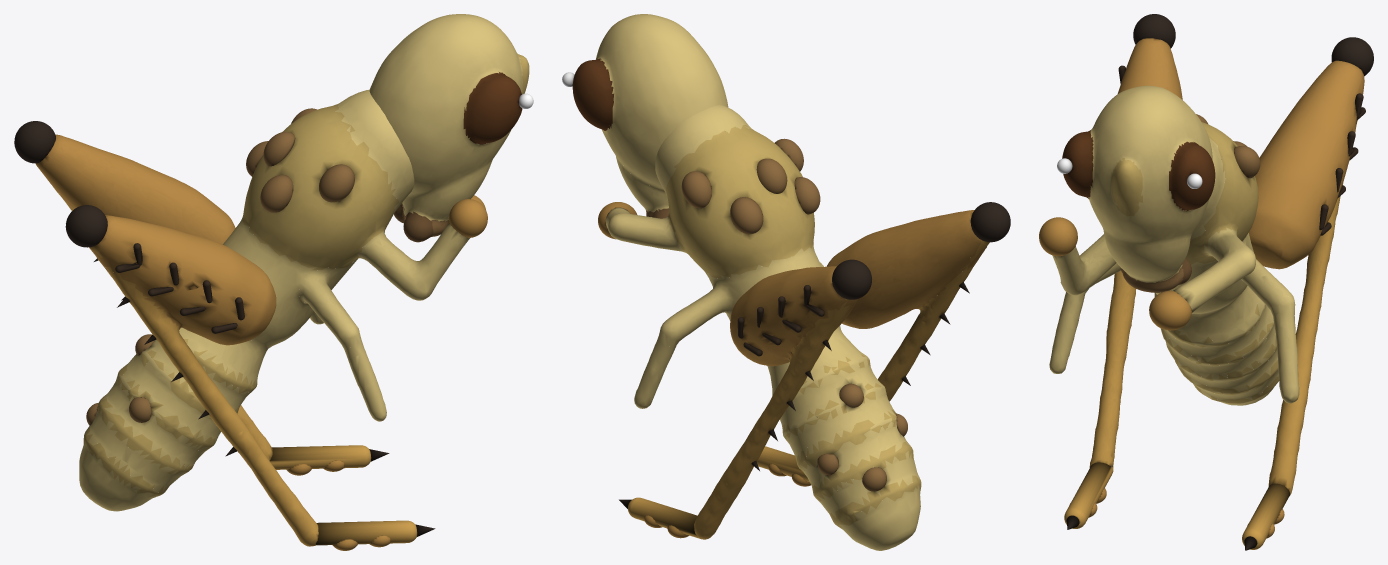
File: kan-jag-smaka.glb
3 renders of one model, left to right at view 1: azimuth 30°, elevation 25°; view 2: azimuth 150°, elevation 25°; view 3: azimuth 270°, elevation 25°, orthographic. The views are drawn at different scales.
Parts seen in each view (by area): view 1: gafanhoto__r0, patas__r0, cabeca__r0, patas__r7, patas__r27, patas__r36, patas__r20, gafanhoto__r5, gafanhoto__r9, gafanhoto__r10, gafanhoto__r11; view 2: gafanhoto__r0, patas__r0, cabeca__r0, patas__r27, patas__r36, patas__r20, gafanhoto__r8, gafanhoto__r7, gafanhoto__r11, patas__r7, gafanhoto__r10; view 3: patas__r0, gafanhoto__r0, cabeca__r0, patas__r7, patas__r27, gafanhoto__r6, gafanhoto__r5, patas__r20, patas__r36, gafanhoto__r7.
Boxes of the visible parts, bbox=[...] form: gafanhoto__r0: bbox=[79, 89, 469, 511]; patas__r0: bbox=[35, 134, 318, 546]; cabeca__r0: bbox=[369, 14, 529, 242]; patas__r7: bbox=[316, 520, 417, 545]; patas__r27: bbox=[269, 445, 371, 469]; patas__r36: bbox=[65, 205, 107, 247]; patas__r20: bbox=[14, 121, 55, 163]; gafanhoto__r5: bbox=[449, 199, 487, 237]; gafanhoto__r9: bbox=[319, 164, 354, 202]; gafanhoto__r10: bbox=[260, 174, 293, 212]; gafanhoto__r11: bbox=[263, 132, 295, 166]; gafanhoto__r0: bbox=[605, 104, 921, 550]; patas__r0: bbox=[694, 210, 989, 539]; cabeca__r0: bbox=[572, 14, 728, 218]; patas__r27: bbox=[628, 497, 709, 539]; patas__r36: bbox=[970, 202, 1010, 242]; patas__r20: bbox=[832, 259, 871, 299]; gafanhoto__r8: bbox=[730, 197, 763, 234]; gafanhoto__r7: bbox=[681, 171, 711, 208]; gafanhoto__r11: bbox=[756, 158, 787, 193]; patas__r7: bbox=[757, 446, 809, 482]; gafanhoto__r10: bbox=[794, 177, 820, 214]; patas__r0: bbox=[1089, 38, 1364, 495]; gafanhoto__r0: bbox=[1049, 122, 1299, 405]; cabeca__r0: bbox=[1062, 85, 1215, 292]; patas__r7: bbox=[1064, 462, 1113, 528]; patas__r27: bbox=[1242, 483, 1289, 549]; gafanhoto__r6: bbox=[1149, 290, 1191, 330]; gafanhoto__r5: bbox=[1039, 217, 1077, 256]; patas__r20: bbox=[1331, 37, 1373, 76]; patas__r36: bbox=[1133, 14, 1175, 48]; gafanhoto__r7: bbox=[1234, 146, 1260, 178].
Size of the model in its own units: 1.69 by 1.71 by 1.09.
